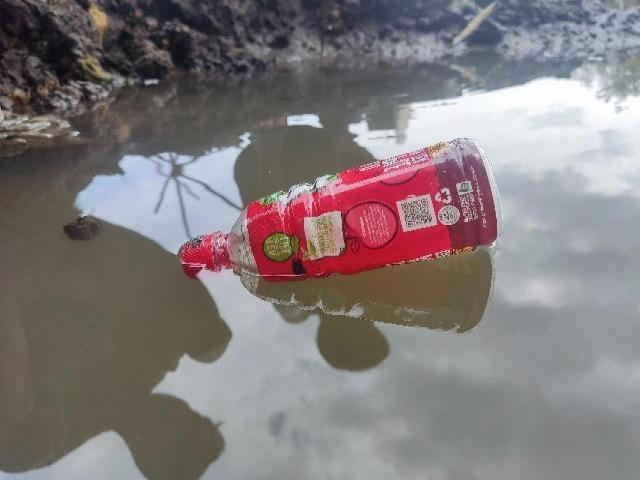Bottle: (165, 128, 509, 288)
